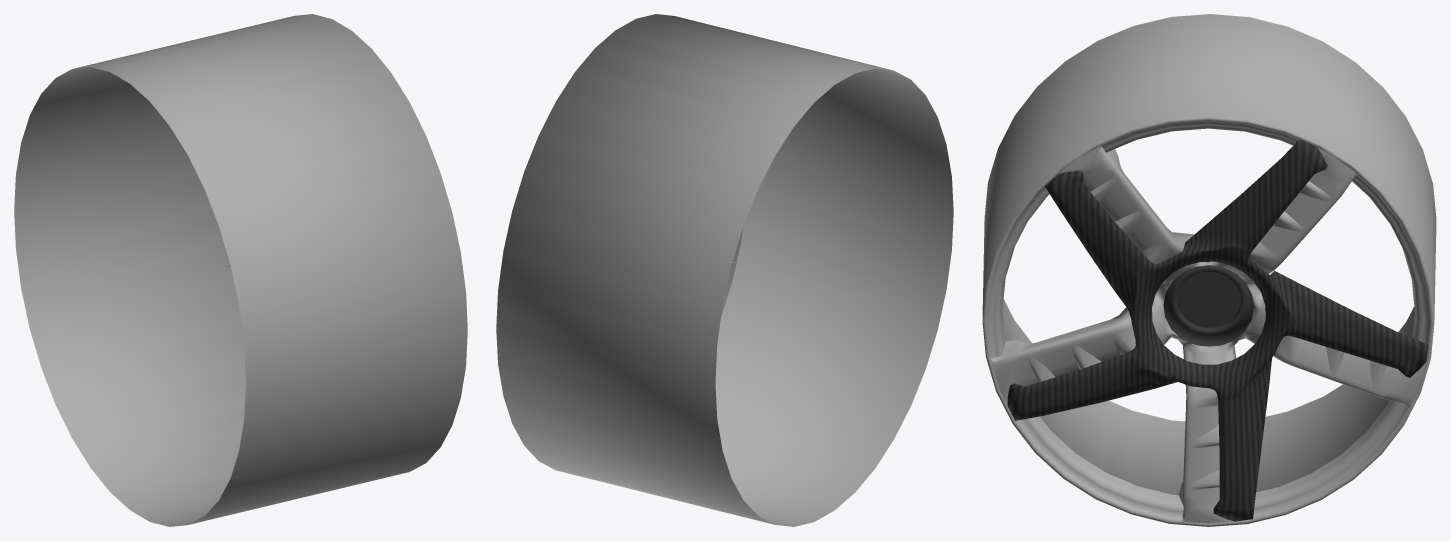
File: rim2.glb
3 views of the same model, side by side, from view 1: azimuth 30°, elevation 25°; view 2: azimuth 150°, elevation 25°; view 3: azimuth 270°, elevation 25° (orthographic). The views are drawn at different scales.
Visible parts, largest first — view 1: rim2; view 2: rim2; view 3: rim2.
Part boxes in pixels (bbox=[...]): rim2: bbox=[14, 14, 467, 526]; rim2: bbox=[496, 14, 953, 526]; rim2: bbox=[982, 14, 1436, 526].
Size of the model in its own units: 1.09 by 1.96 by 1.96.
Materials: 3 (1 with a texture image).
